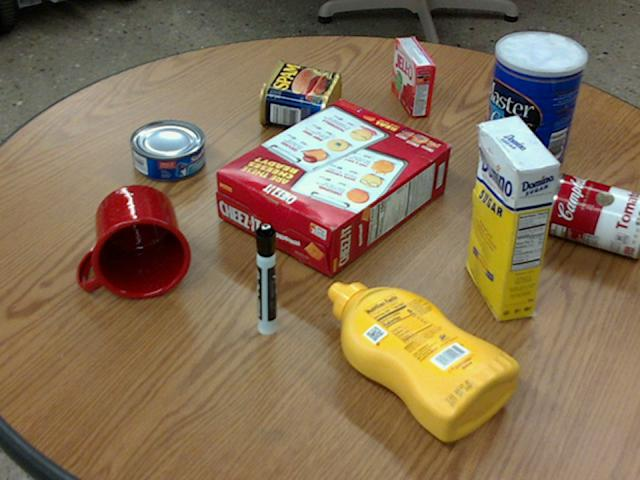cracker_box: (215, 100, 449, 276)
gelatin_box: (392, 37, 434, 116)
large_marker: (254, 223, 275, 334)
master_chef_can: (481, 32, 586, 176)
mug: (76, 185, 189, 298)
mustard_bottle: (327, 282, 518, 440)
potted_meat_can: (258, 59, 341, 131)
sugar_box: (467, 115, 558, 321)
tomato_soup_can: (544, 172, 639, 256)
tuna_fish_can: (130, 119, 204, 179)
